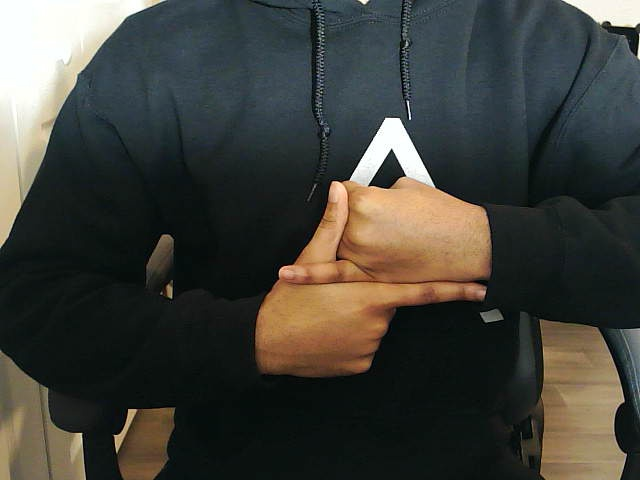Hare: (260, 180, 486, 379)
